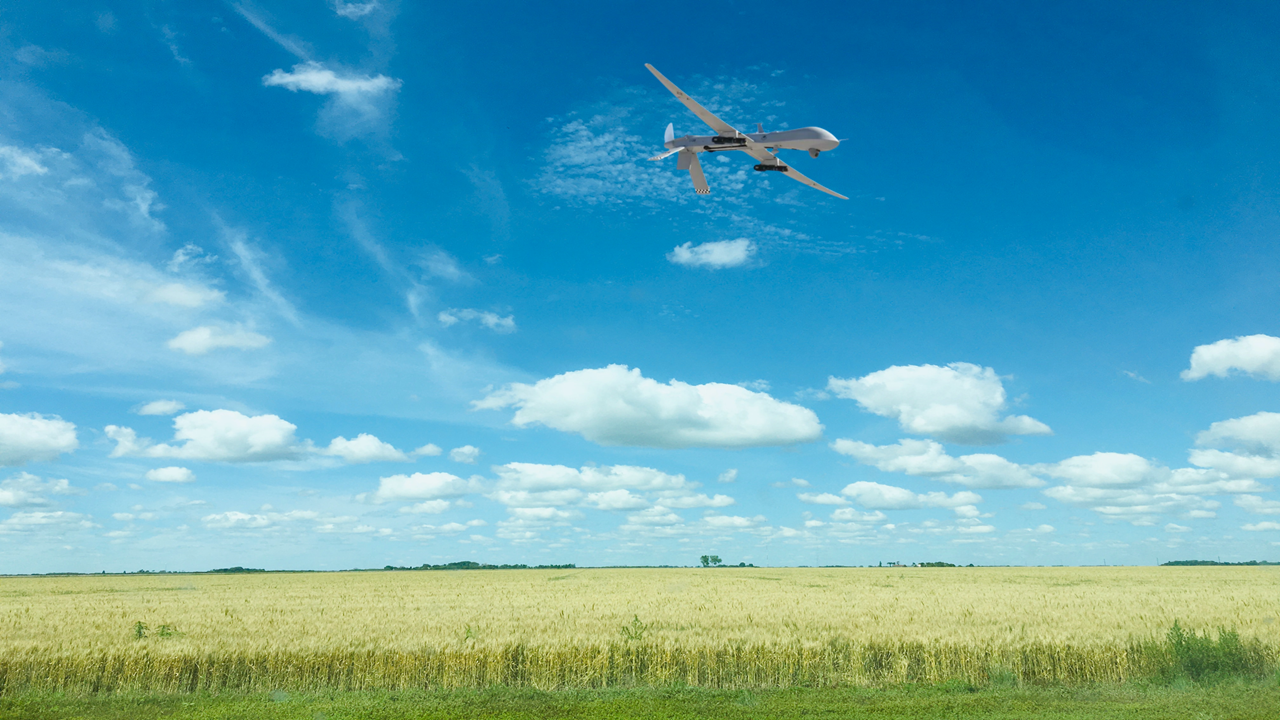military drone: (644, 63, 848, 199)
